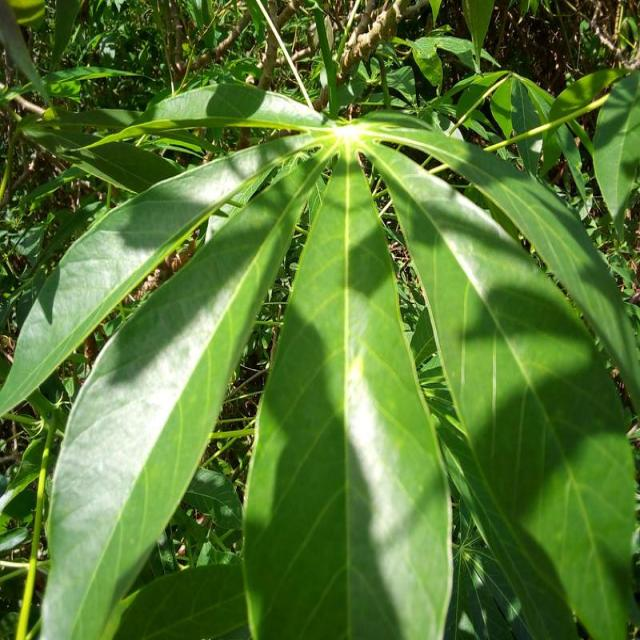cassava leaf: (8, 77, 638, 638), (358, 126, 637, 638), (38, 142, 326, 638), (240, 142, 454, 638)
